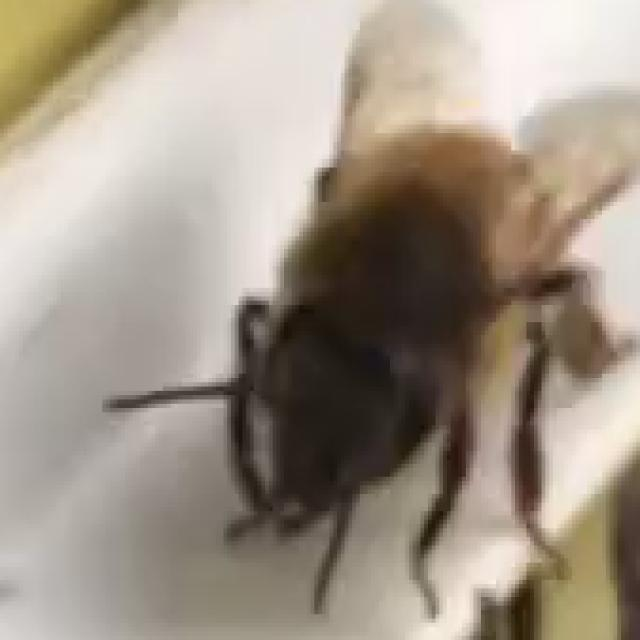honeybee: (201, 30, 640, 588)
